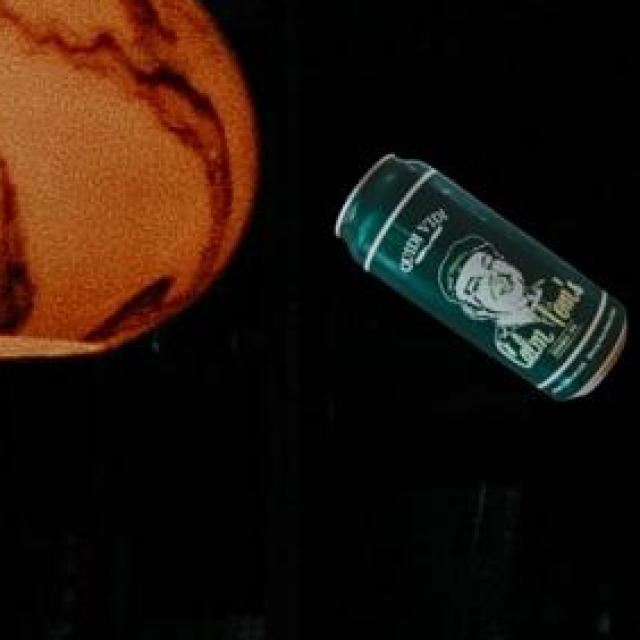logam: (332, 151, 623, 396)
